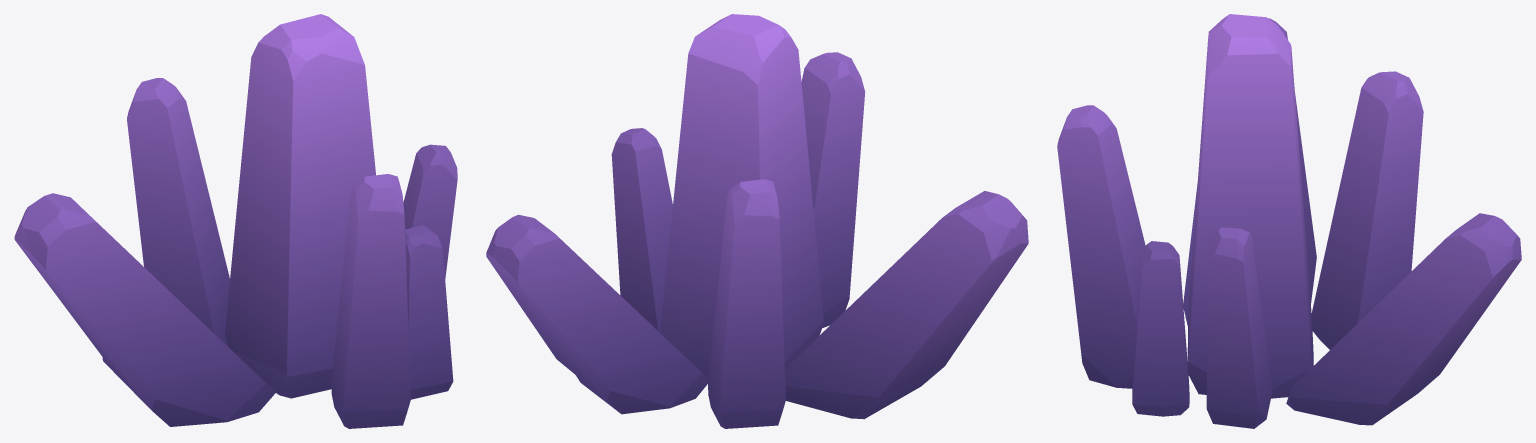
The model's file is Crystal_P_19.glb.
3 renders of one model, left to right at view 1: azimuth 30°, elevation 25°; view 2: azimuth 150°, elevation 25°; view 3: azimuth 270°, elevation 25°, orthographic. The views are drawn at different scales.
Visible parts, largest first — view 1: crystal_19; view 2: crystal_19; view 3: crystal_19.
Part boxes in pixels (x1,y1,x2,y2): crystal_19: (14,14,457,428); crystal_19: (486,14,1028,428); crystal_19: (1057,14,1521,428).
Bounding box in the file's own units: 1 × 0.781 × 0.9471.
Materials: 1 (1 with a texture image).
